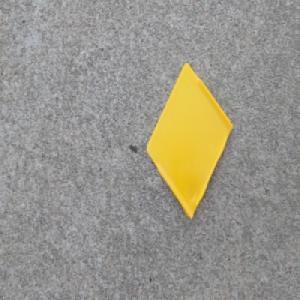PlasticPart: (145, 61, 233, 220)
